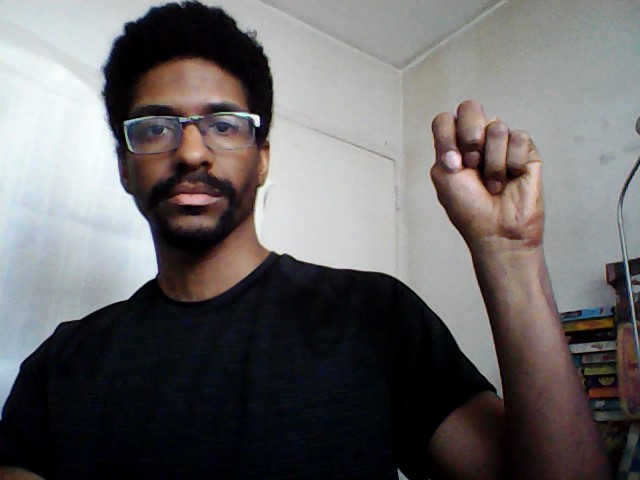n: (427, 95, 550, 241)
